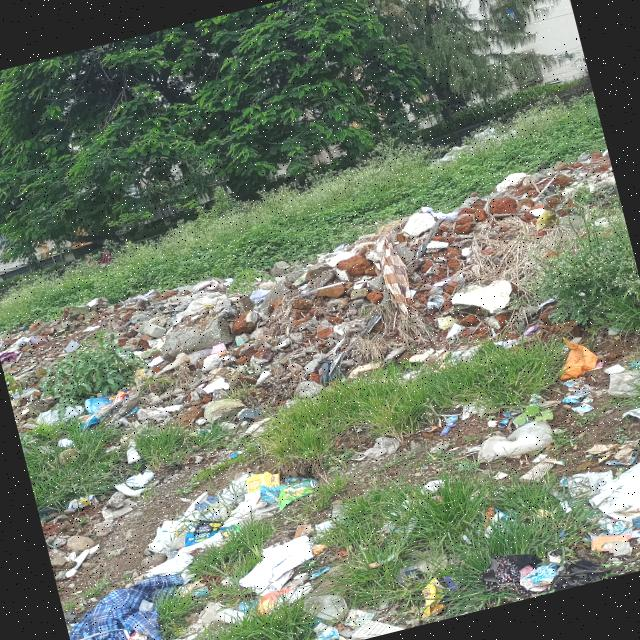garbage: (0, 169, 640, 520), (45, 362, 640, 640)
